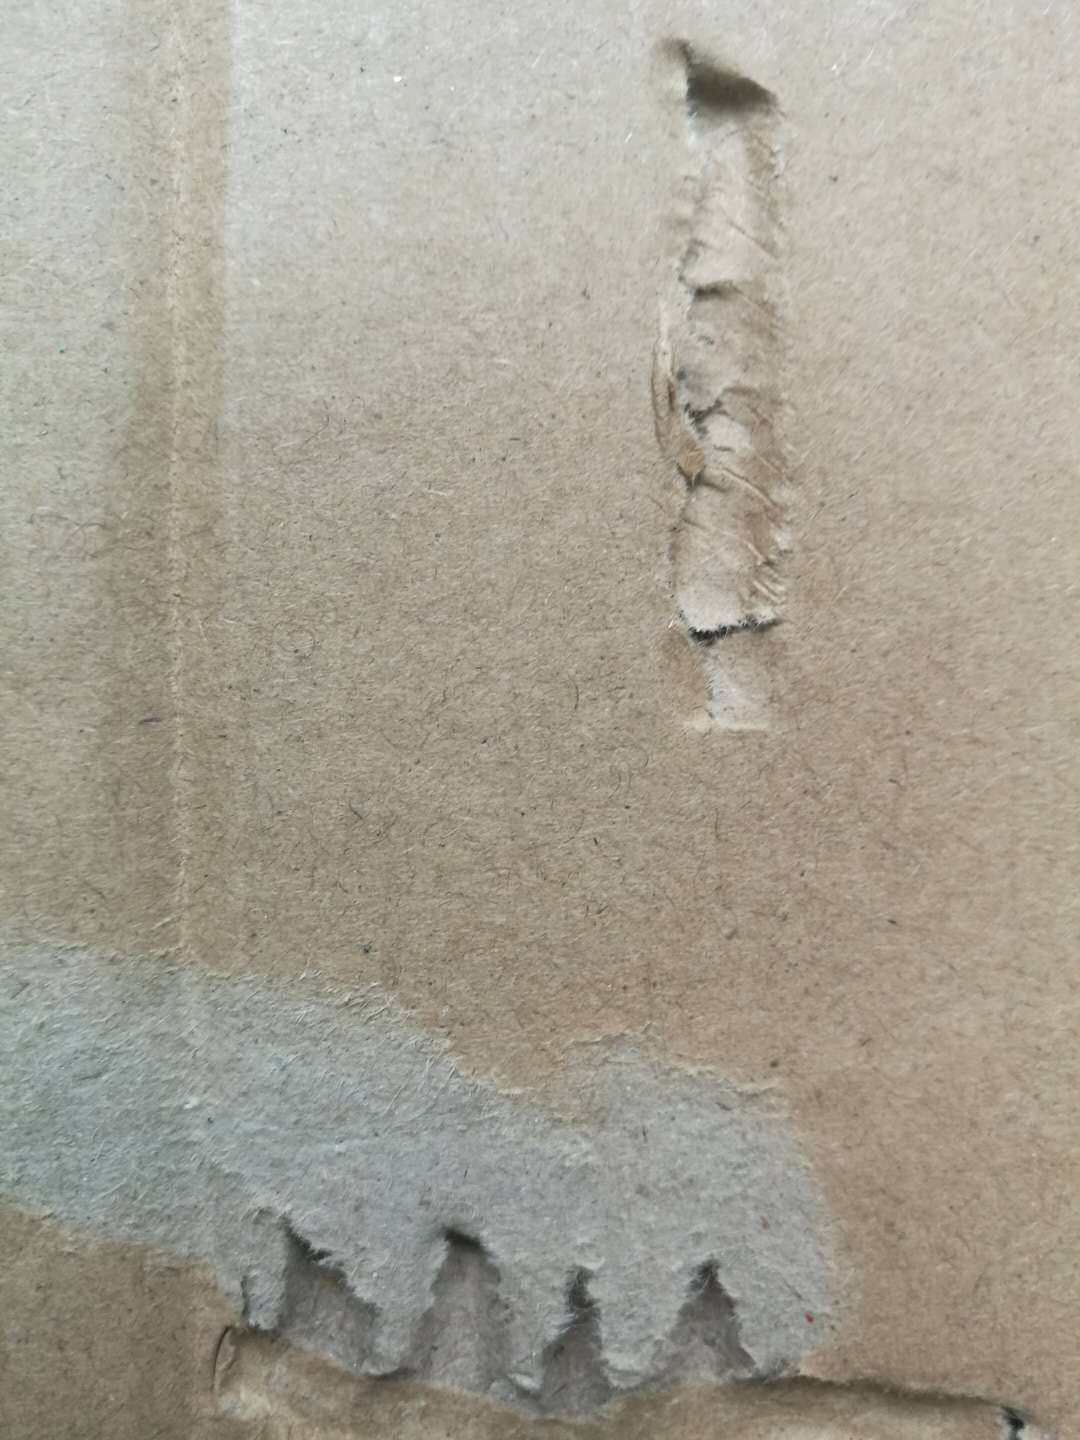defect: (2, 882, 1080, 1437), (98, 1, 292, 1435), (609, 12, 842, 795)
